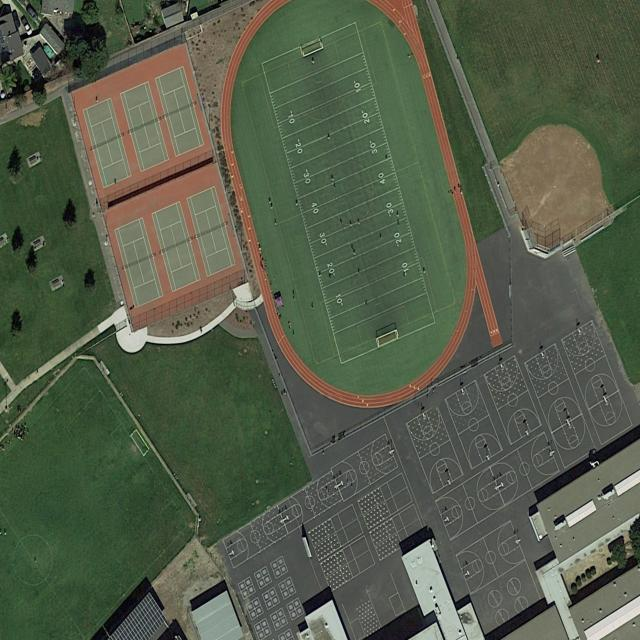small-vehicle: (21, 16, 34, 36), (26, 4, 39, 23), (12, 8, 22, 29)
